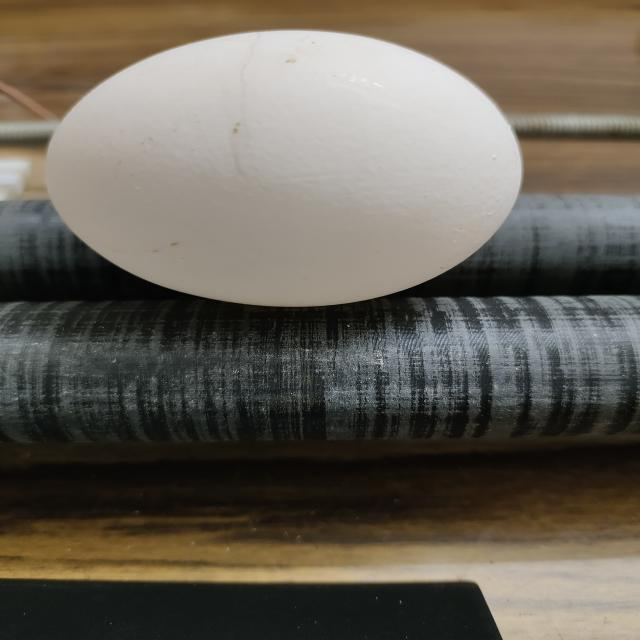Eggs: (46, 25, 526, 310)
